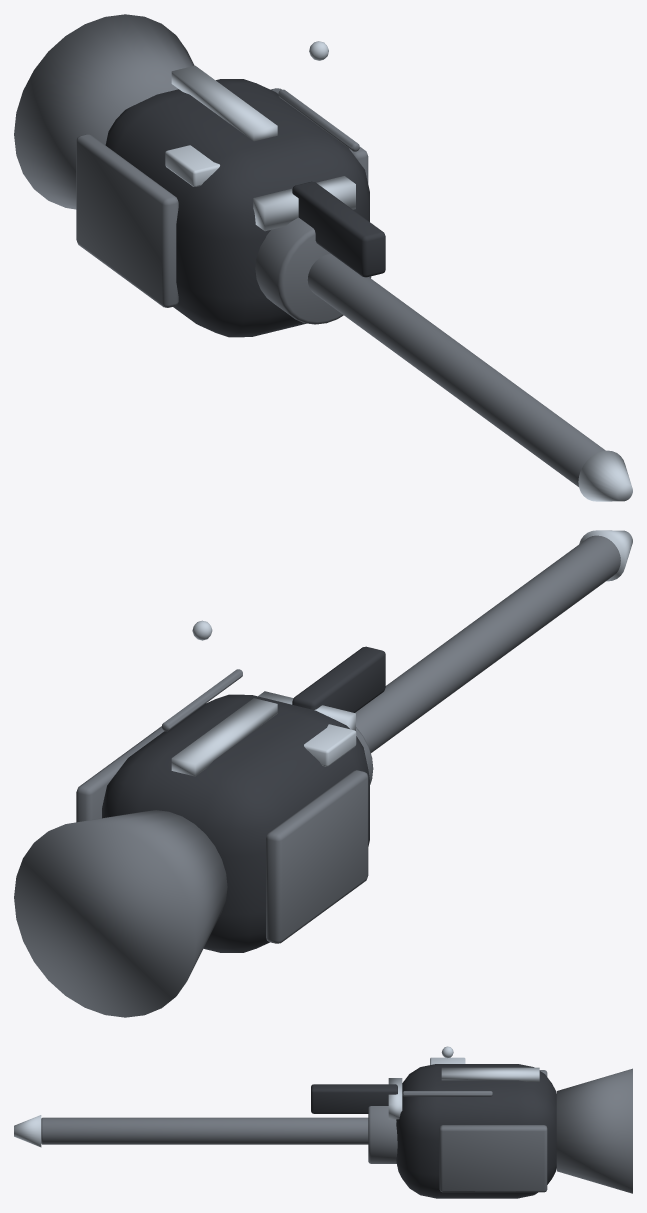
File: weapon_drone_needle.glb
3 renders of one model, top to bottom at view 1: azimuth 30°, elevation 25°; view 2: azimuth 150°, elevation 25°; view 3: azimuth 270°, elevation 25°, orthographic. The views are drawn at different scales.
Parts seen in each view (by area): view 1: weapon_drone_needle; view 2: weapon_drone_needle; view 3: weapon_drone_needle.
Part boxes in pixels (<box>): weapon_drone_needle: <box>14,14,632,501</box>; weapon_drone_needle: <box>14,530,632,1017</box>; weapon_drone_needle: <box>14,1046,632,1198</box>.
Bounding box in the file's own units: 0.5184 × 0.64 × 2.27.
